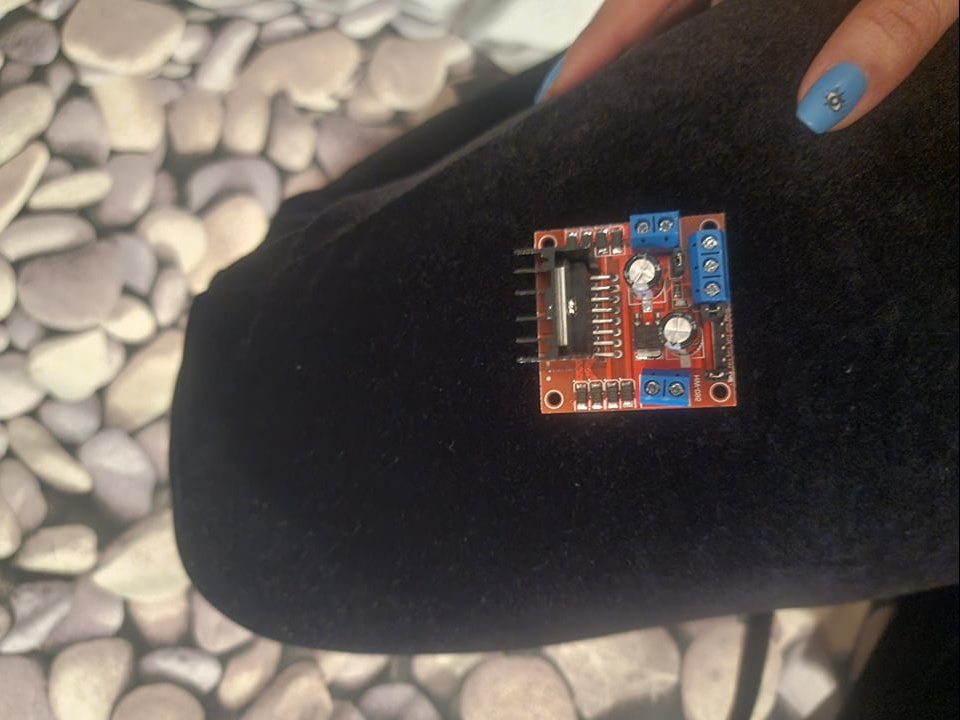MOTOR: (515, 205, 738, 413)
